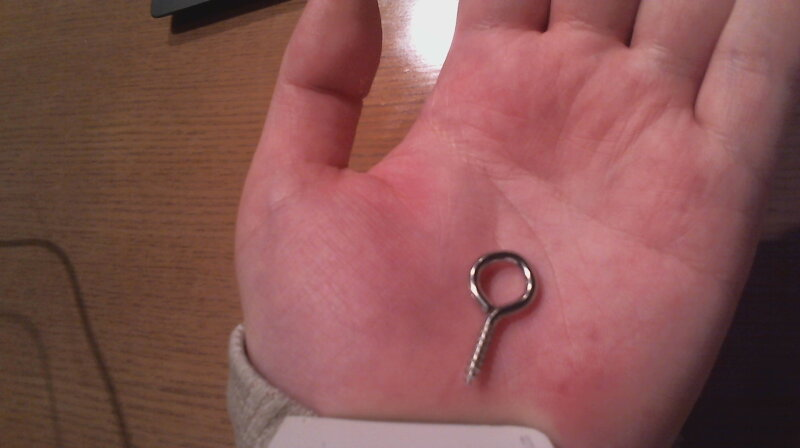O001: (458, 248, 545, 389)
